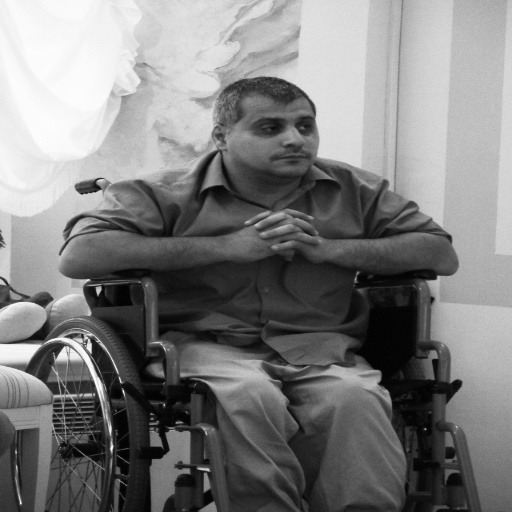hand: (240, 208, 329, 266)
